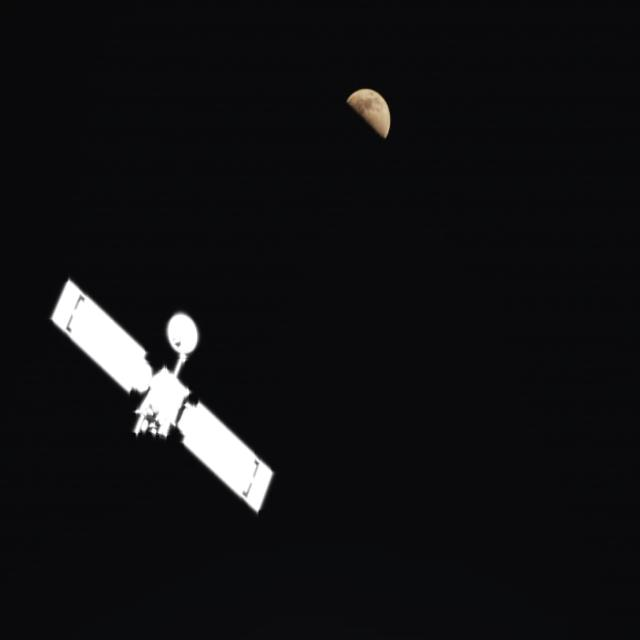satellite: (45, 270, 275, 522)
